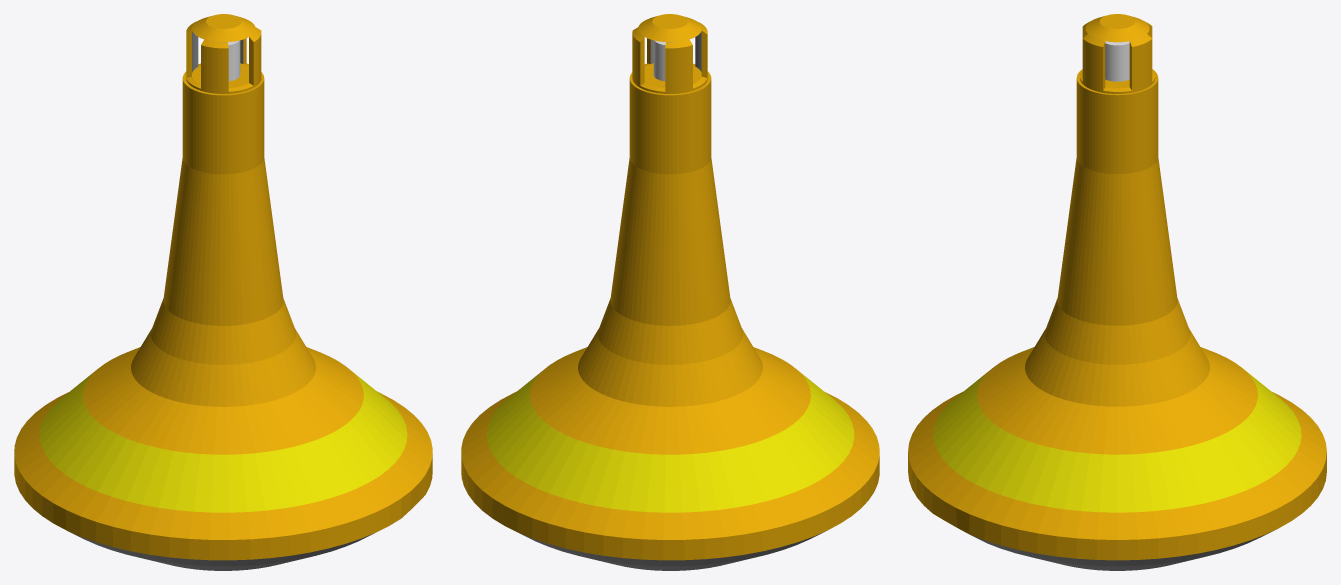
Rendered from Buoy.fbx.
3 renders of one model, left to right at view 1: azimuth 30°, elevation 25°; view 2: azimuth 150°, elevation 25°; view 3: azimuth 270°, elevation 25°, orthographic.
Parts seen in each view (by area): view 1: Base, Top; view 2: Base, Top; view 3: Base, Top, Light.
Boxes of the visible parts, x1,y1,x2,y2 form: Base: (14, 71, 432, 570); Top: (186, 14, 261, 93); Base: (461, 71, 879, 570); Top: (632, 14, 707, 93); Base: (908, 69, 1326, 570); Top: (1080, 14, 1155, 93); Light: (1105, 41, 1129, 81).
Bounding box in the file's own units: 255 × 339 × 255.
